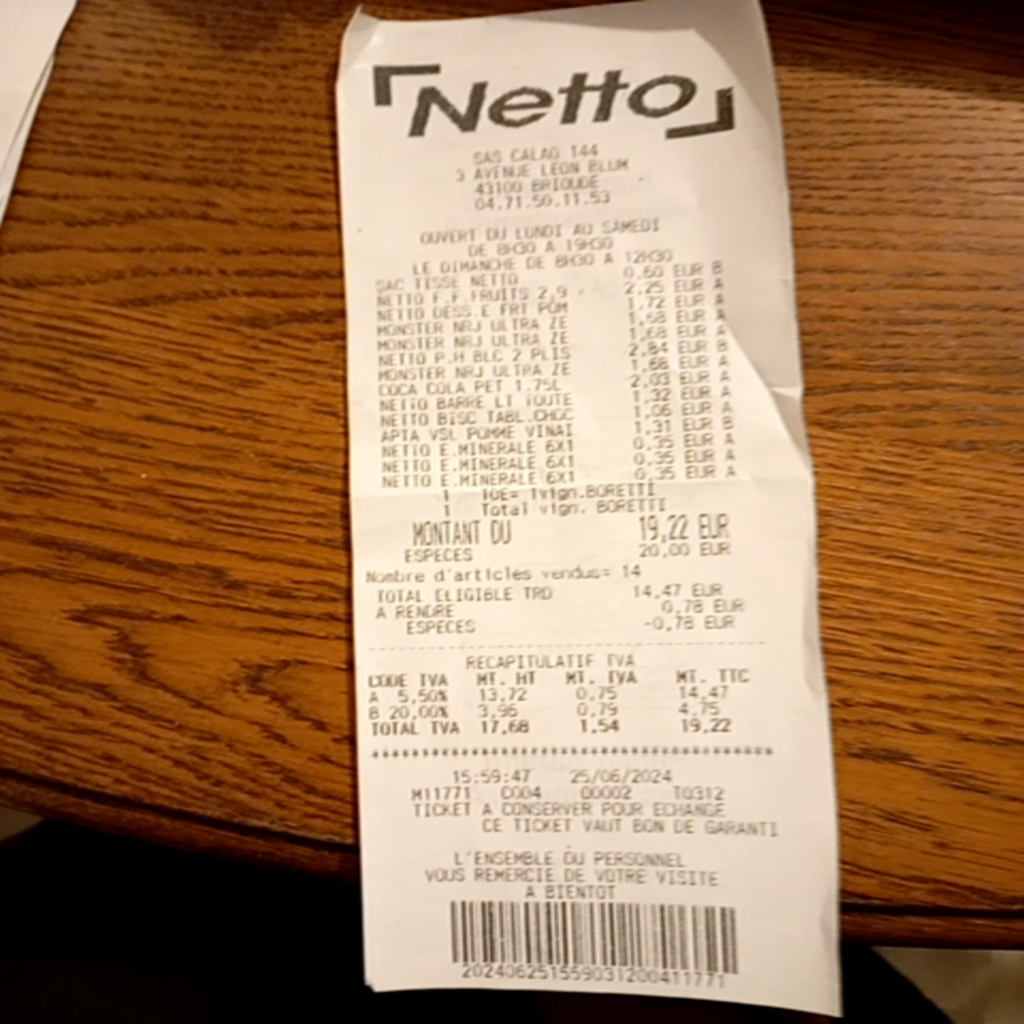recipt: (336, 2, 844, 1014)
